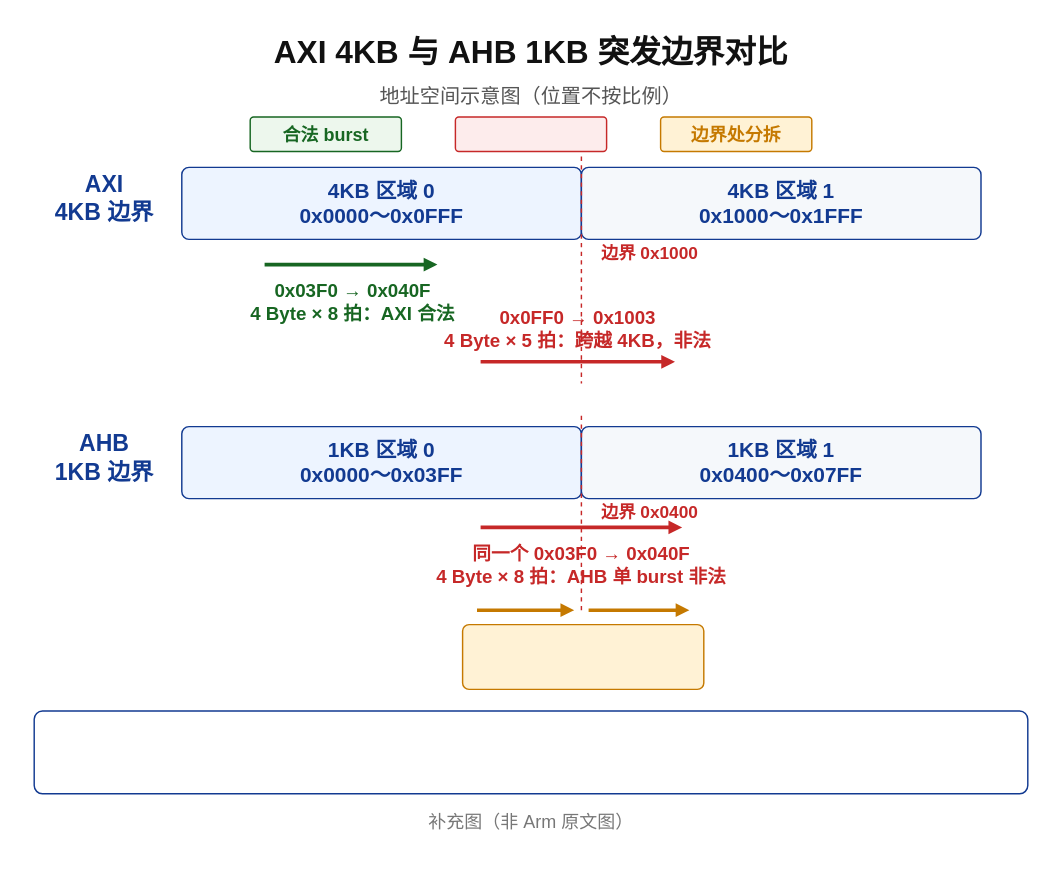
The diagram is 1061 pixels wide and 874 high, and some of its shapes have lost their labels. The centre of each missing label's shape, as x and y in pixels:
"4KB / 1KB 是地址译码边界，不是传输大小。跨界请求必须由发起端或桥接组件拆成多个合法 burst。" belongs at point (530, 752).
"在 0x0400 分拆 前 4 拍 + 后 4 拍" belongs at point (583, 657).
"跨界 burst" belongs at point (530, 134).
